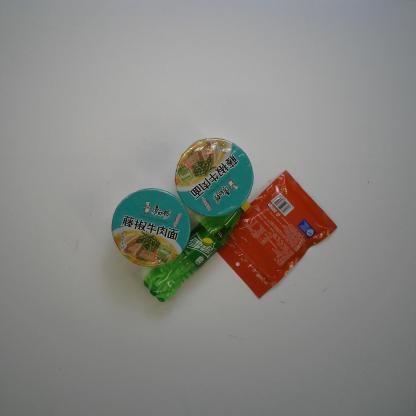Dried Fruit: (209, 168, 337, 299)
Drink: (141, 188, 252, 304)
Instant Noodles: (110, 186, 193, 270), (173, 136, 255, 219)
